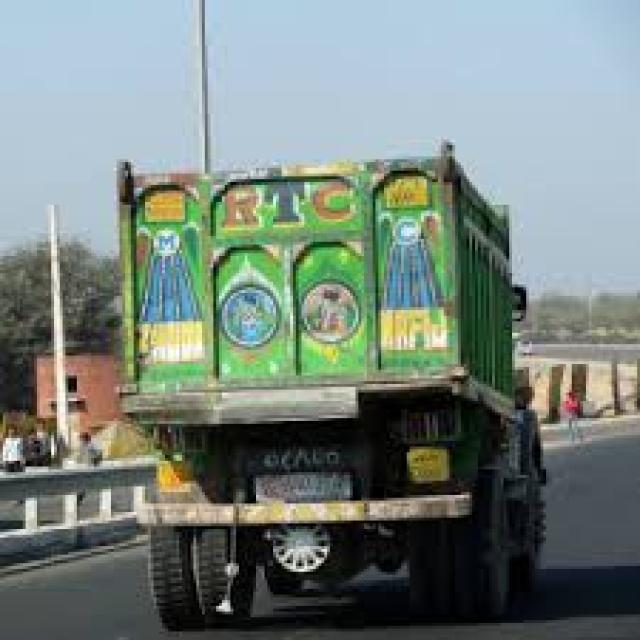truck_back: (105, 131, 562, 632)
